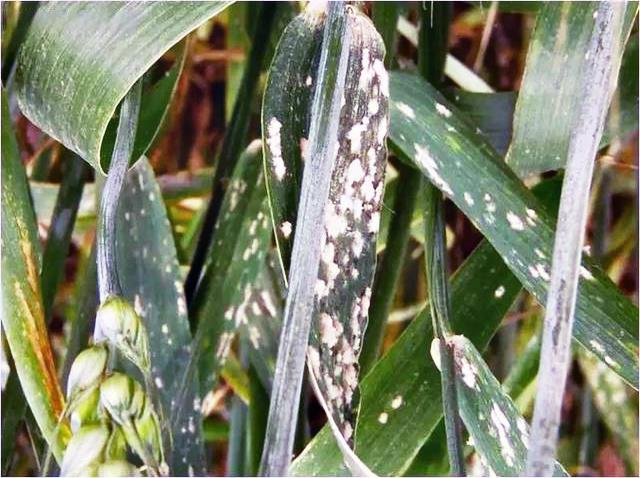Powdery Mildew: (267, 36, 390, 426)
